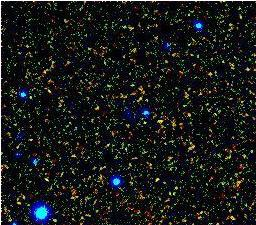star: (15, 84, 45, 114)
